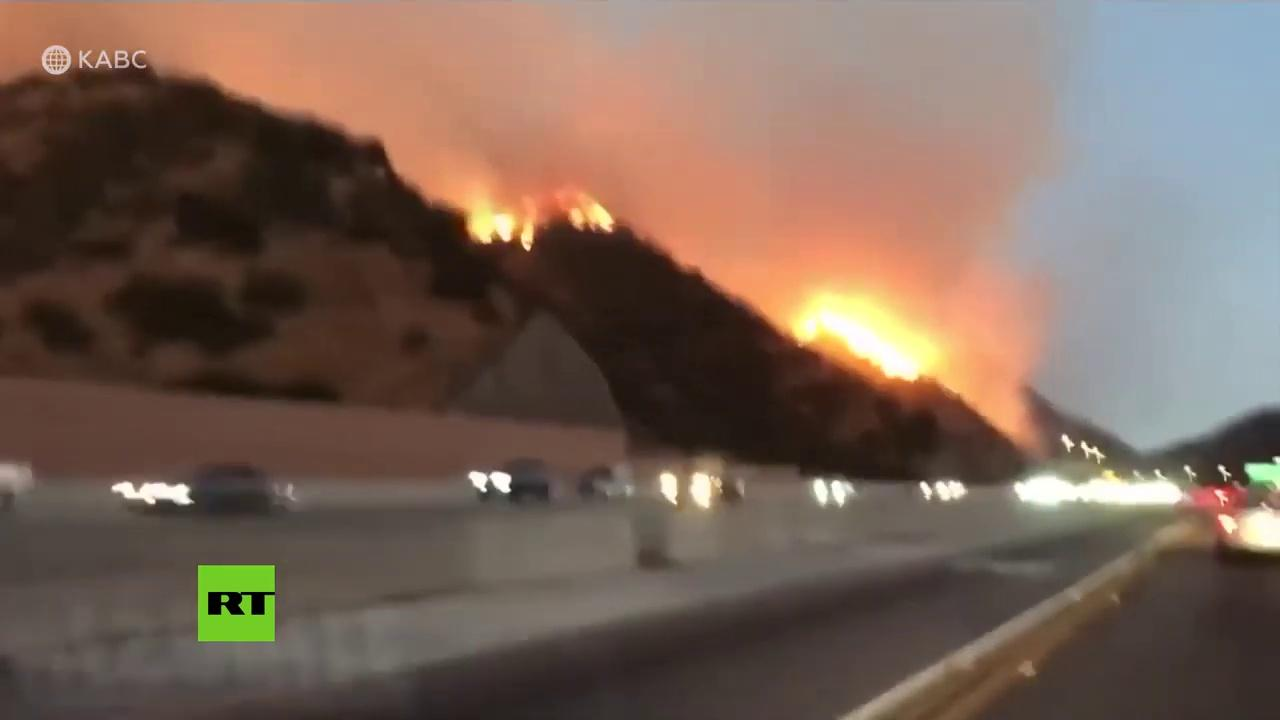Fire: (791, 295, 932, 384), (462, 208, 537, 253), (561, 195, 619, 233)
